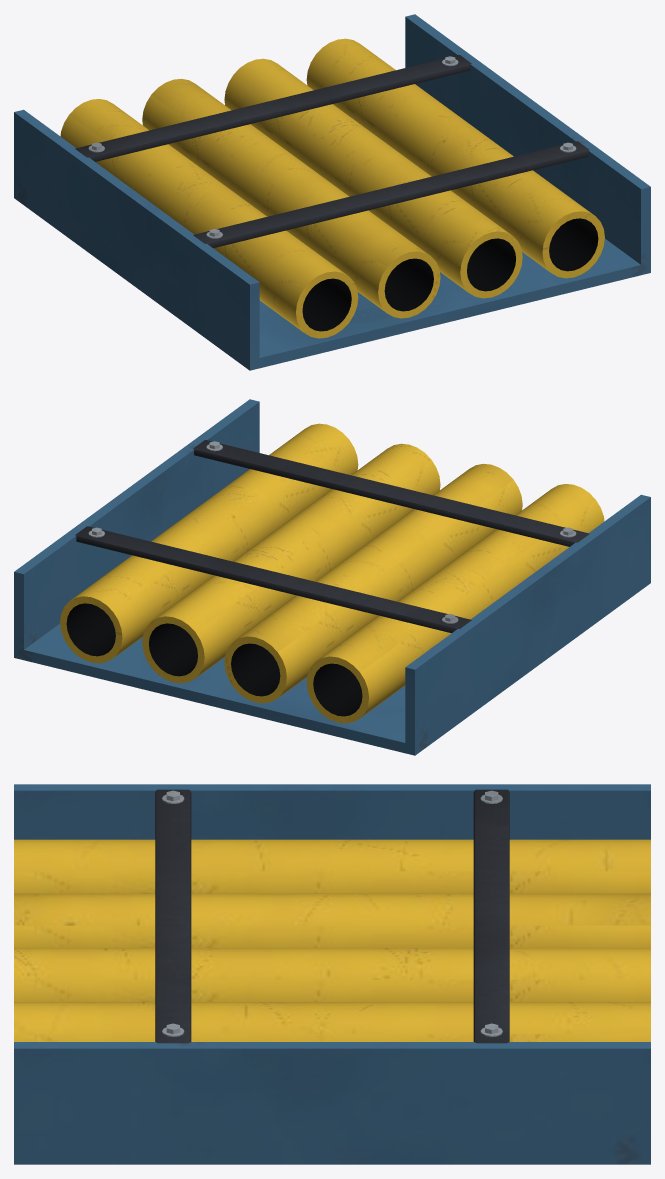
The model's file is tubes_short.glb.
The picture shows the model from 3 angles, top to bottom: view 1: azimuth 30°, elevation 25°; view 2: azimuth 150°, elevation 25°; view 3: azimuth 270°, elevation 25°; orthographic projection. The views are drawn at different scales.
Visible parts, largest first — view 1: Body.007; view 2: Body.007; view 3: Body.007.
Boxes of the visible parts, box(x1,y1,x2,y2) form: Body.007: box(14, 14, 650, 370); Body.007: box(14, 399, 650, 755); Body.007: box(14, 784, 650, 1164).
Size of the model in its own units: 0.488 by 0.1053 by 0.497.
5 materials, 4 textured.
